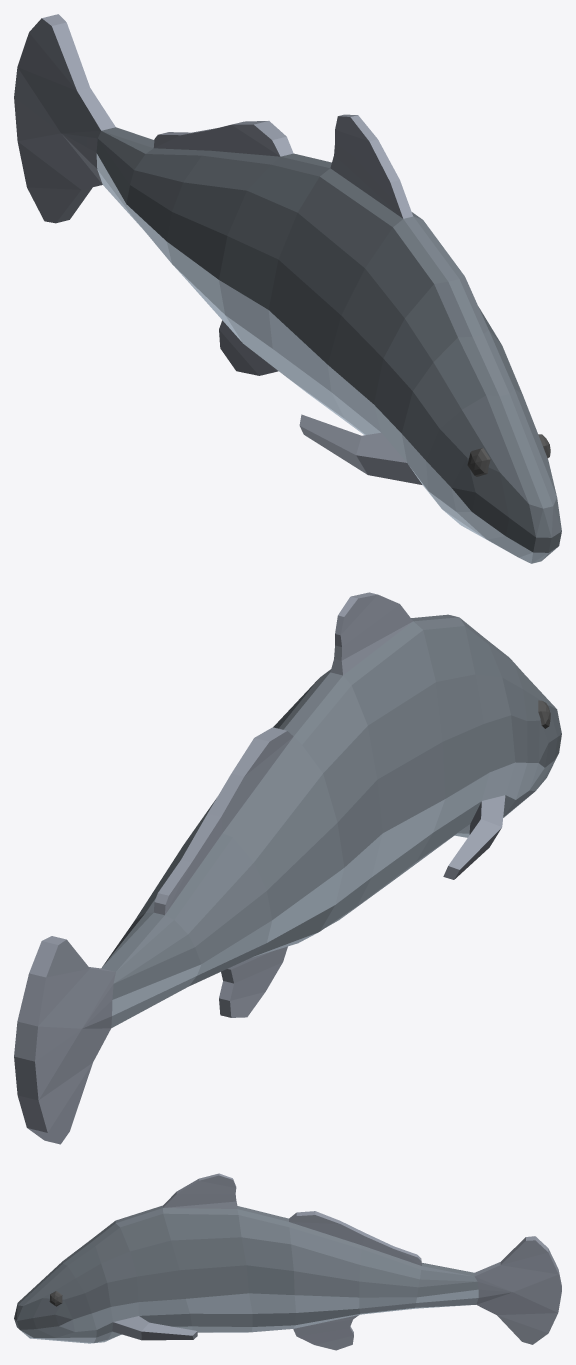
The model's file is fish02.fbx.
The picture shows the model from 3 angles, top to bottom: view 1: azimuth 30°, elevation 25°; view 2: azimuth 150°, elevation 25°; view 3: azimuth 270°, elevation 25°; orthographic projection. The views are drawn at different scales.
Parts seen in each view (by area): view 1: fish02; view 2: fish02; view 3: fish02.
Boxes of the visible parts, bbox=[...] form: fish02: bbox=[14, 14, 561, 563]; fish02: bbox=[14, 592, 561, 1144]; fish02: bbox=[14, 1173, 561, 1350].
Size of the model in its own units: 22.53 by 129 by 45.28.
